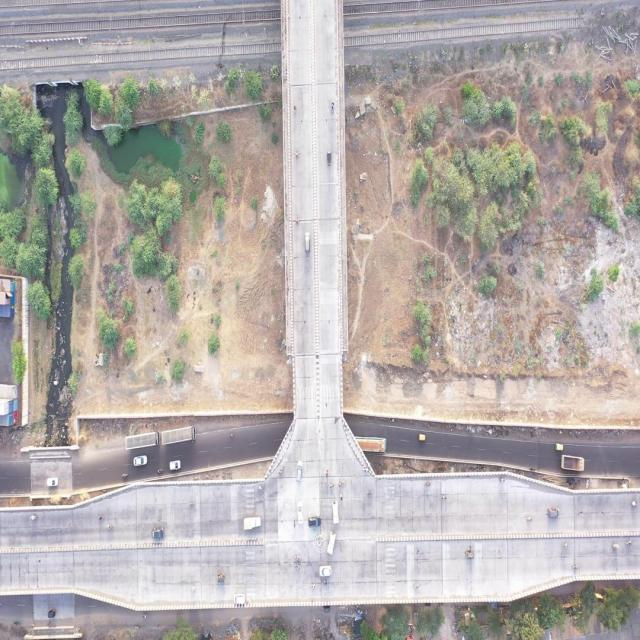3W: (322, 142, 334, 172), (463, 544, 477, 569), (415, 425, 428, 446), (212, 571, 229, 585), (48, 606, 58, 625)
Cars: (241, 512, 263, 539), (147, 523, 169, 549), (327, 497, 343, 530), (230, 586, 251, 611), (292, 460, 308, 490), (302, 224, 315, 258), (316, 563, 339, 582), (130, 453, 150, 474), (166, 457, 184, 477), (558, 534, 576, 554), (41, 472, 62, 489), (546, 503, 560, 526), (295, 499, 306, 528), (308, 513, 322, 531), (609, 539, 622, 558), (189, 498, 197, 515)
M2W: (224, 424, 238, 444), (25, 509, 41, 526), (362, 483, 374, 502), (424, 471, 431, 500), (525, 508, 534, 530), (290, 96, 298, 120), (294, 141, 301, 167), (327, 98, 338, 114), (104, 522, 114, 538), (121, 468, 128, 483), (439, 494, 449, 504), (154, 467, 164, 476), (142, 610, 150, 620)
MAV: (160, 418, 197, 448), (353, 430, 391, 457), (123, 427, 161, 452)
Truck: (559, 448, 588, 479)
